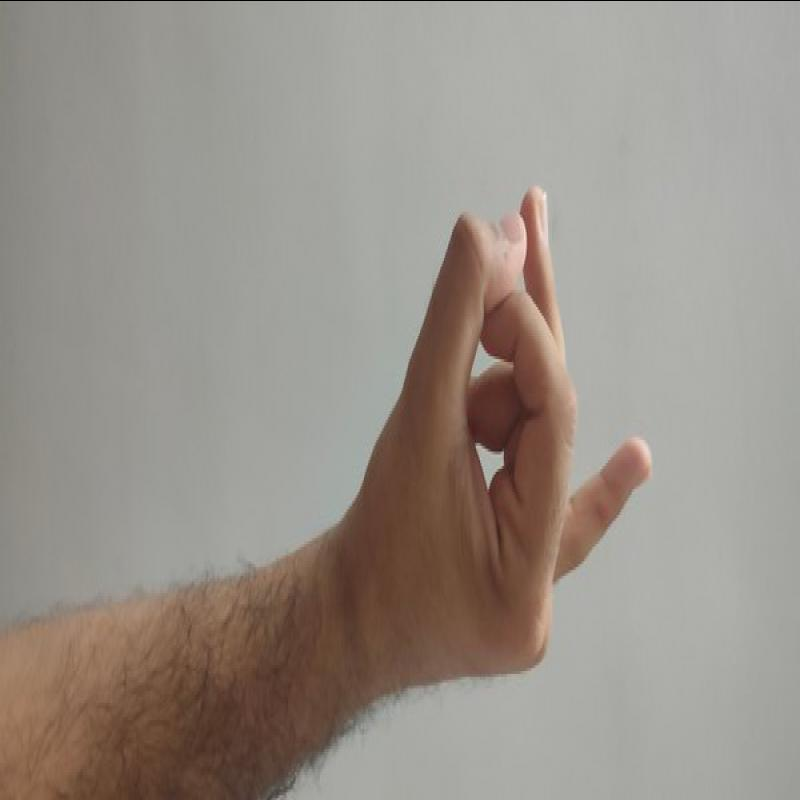Katakam: (355, 158, 674, 694)
